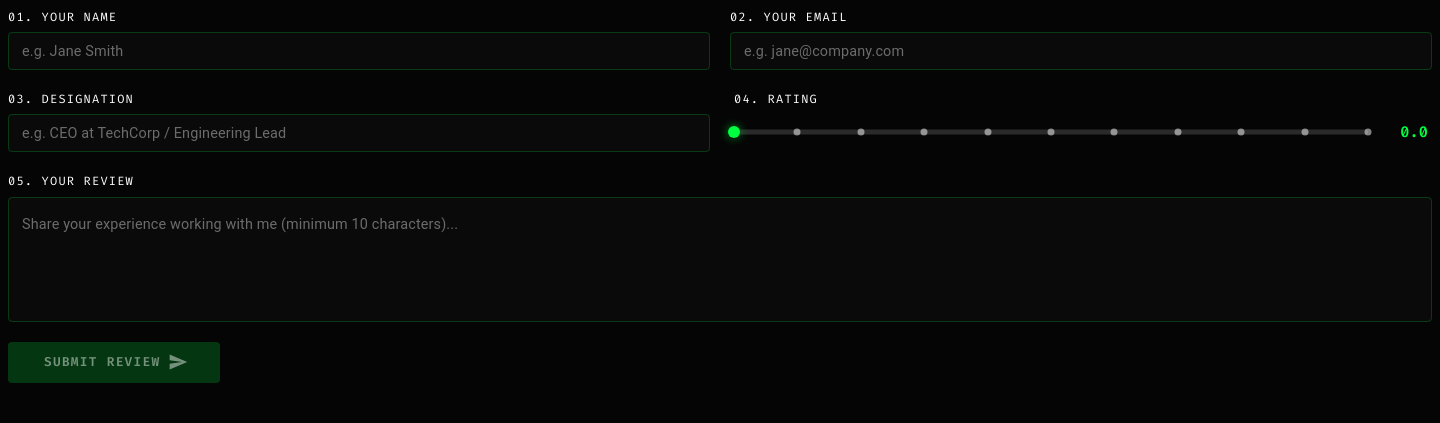
Test: ReviewForm Component - Production Grade Test Suite › Field Validation and Error Messages › shows validation error for invalid email format
In the field with placeholder "e.g. jane@company.com": (1081, 51) 730,32 -> 1432,70, type "invalid-email"
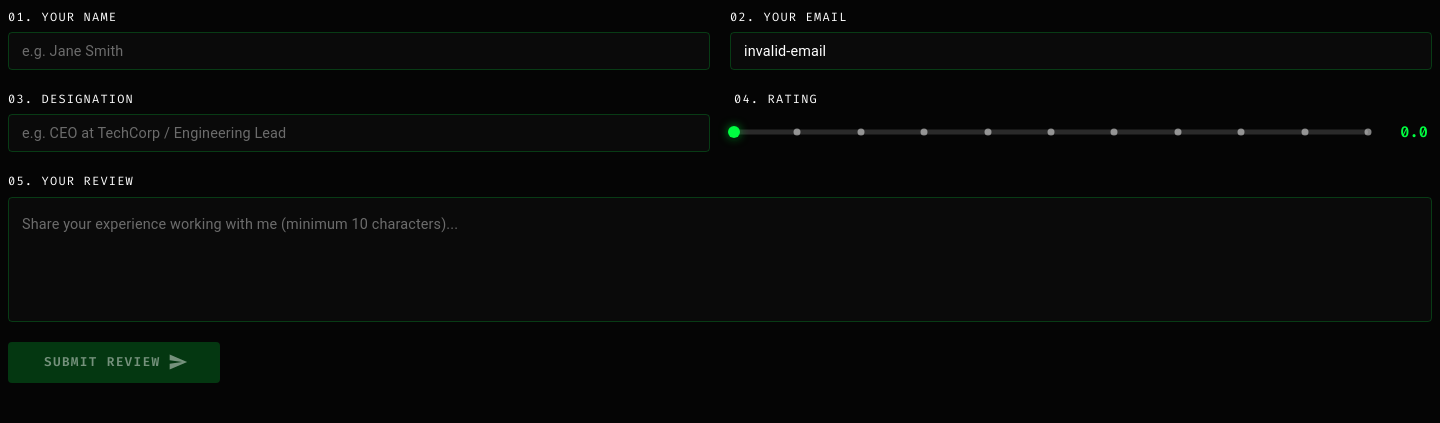
Leave the field with placeholder "e.g. jane@company.com", box 730,32 -> 1432,70
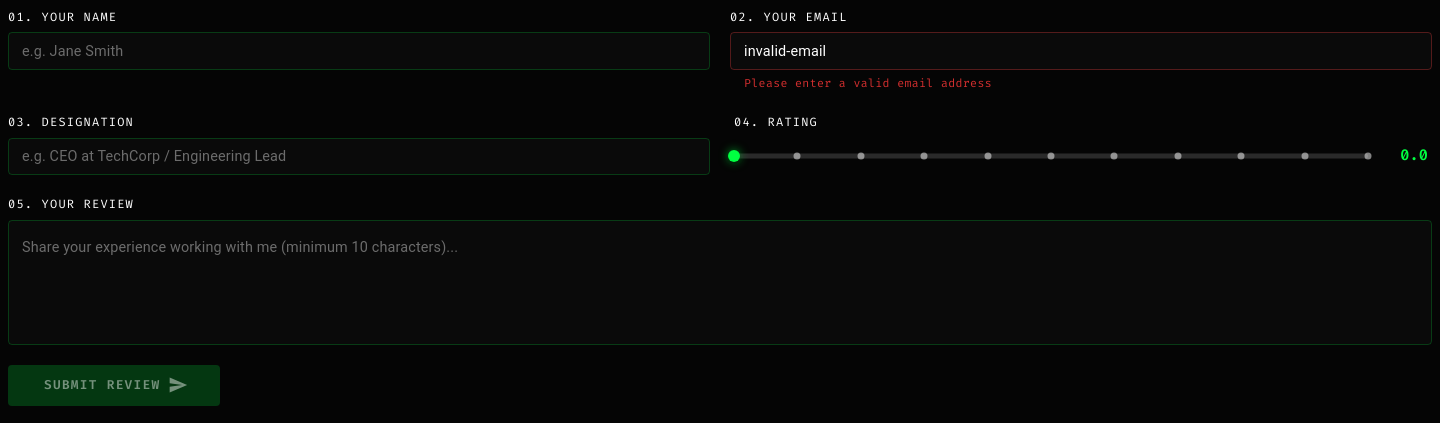
Check: the text "Please enter a valid email address" is shown, box 744,76 -> 992,91
